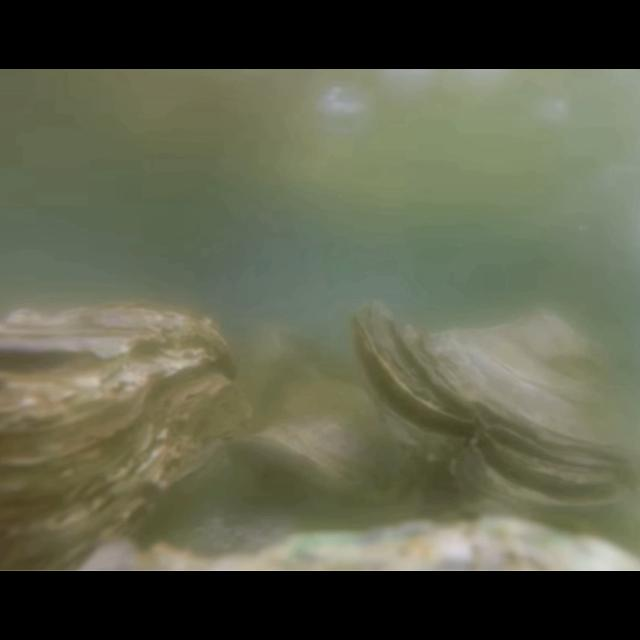Oyster-Closed: (0, 307, 252, 571)
Oyster-Indeterminate: (223, 383, 424, 515)
Oyster-Open: (349, 301, 640, 524)
